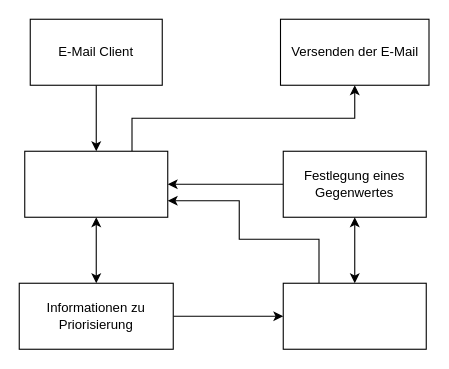
This 449x369 diagram has some shape labels left out. Each missing label, with the centre of its shape:
"Einsicht in das Aufkommen" belongs at (x=354, y=315).
"Verfassen der E-Mail" belongs at (x=96, y=183).
